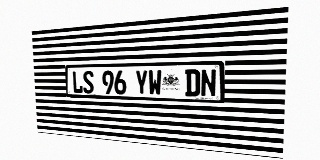6: (114, 70, 126, 95)
9: (102, 70, 114, 94)
D: (185, 69, 200, 97)
L: (72, 71, 83, 93)
N: (200, 69, 216, 97)
S: (83, 71, 94, 94)
W: (148, 70, 162, 96)
Y: (135, 70, 148, 95)
